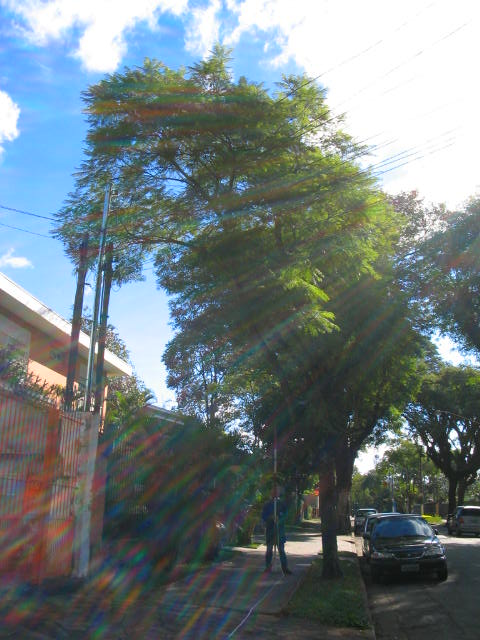crown: (53, 50, 407, 401)
stem: (307, 469, 347, 578), (440, 480, 459, 523)
stick: (265, 418, 283, 574)
tree: (50, 44, 409, 577), (398, 366, 480, 522)
